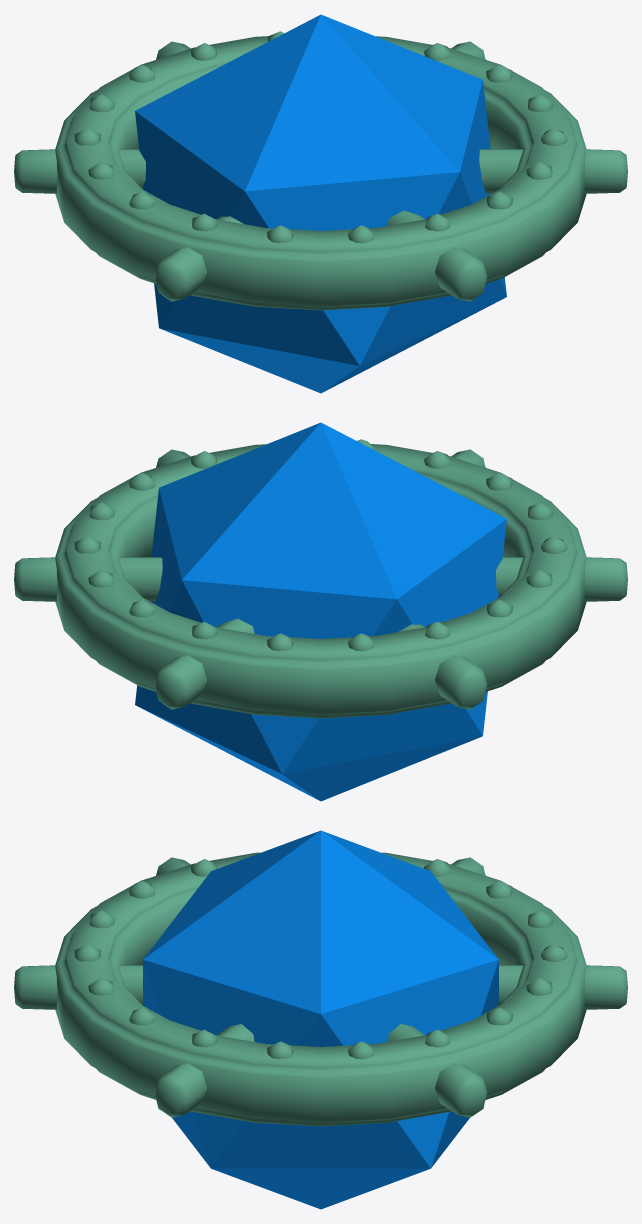
Rendered from Ship wheele.glb.
The picture shows the model from 3 angles, top to bottom: view 1: azimuth 30°, elevation 25°; view 2: azimuth 150°, elevation 25°; view 3: azimuth 270°, elevation 25°; orthographic projection.
Visible parts, largest first — view 1: Joint.032, Ship wheel; view 2: Joint.032, Ship wheel; view 3: Joint.032, Ship wheel.
Boxes of the visible parts, x1,y1,x2,y2 form: Joint.032: [135, 14, 506, 393]; Ship wheel: [14, 31, 627, 310]; Joint.032: [135, 422, 506, 801]; Ship wheel: [14, 439, 627, 718]; Joint.032: [143, 830, 498, 1209]; Ship wheel: [14, 852, 627, 1126].
Size of the model in its own units: 0.3962 by 0.3048 by 0.4475.
